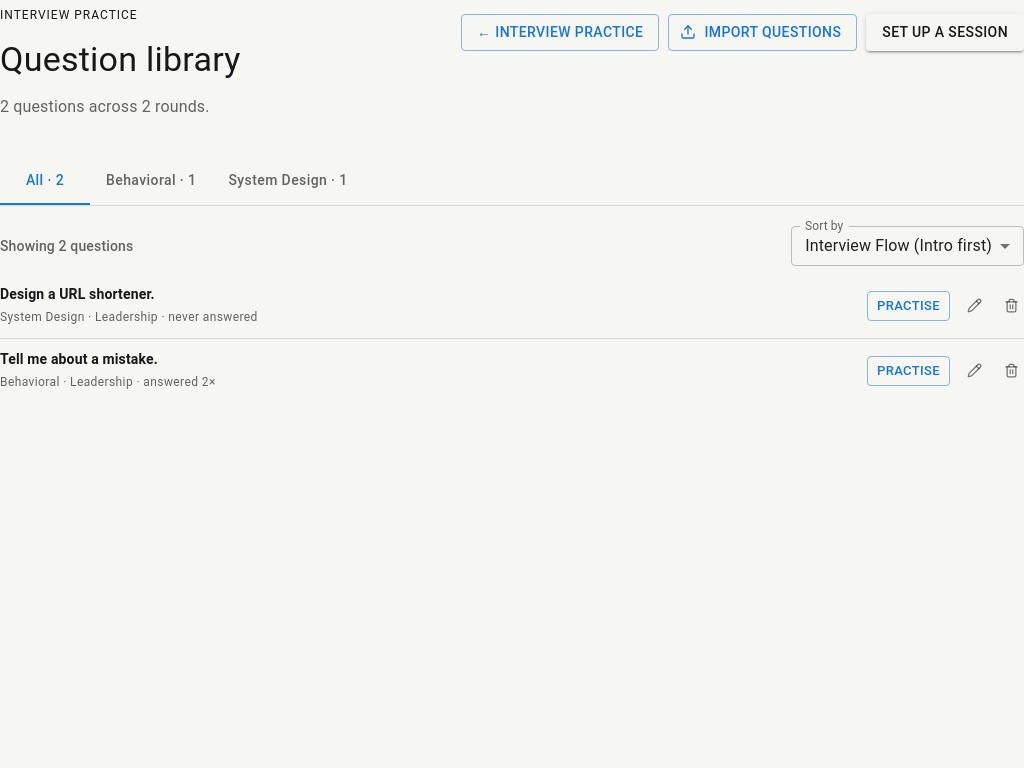
Test: InterviewLibraryPage › deletes only after asking, and says the recordings are kept
Click the button named "Delete Tell me about a mistake.": {"x": 1012, "y": 371} [999,358,1023,383]
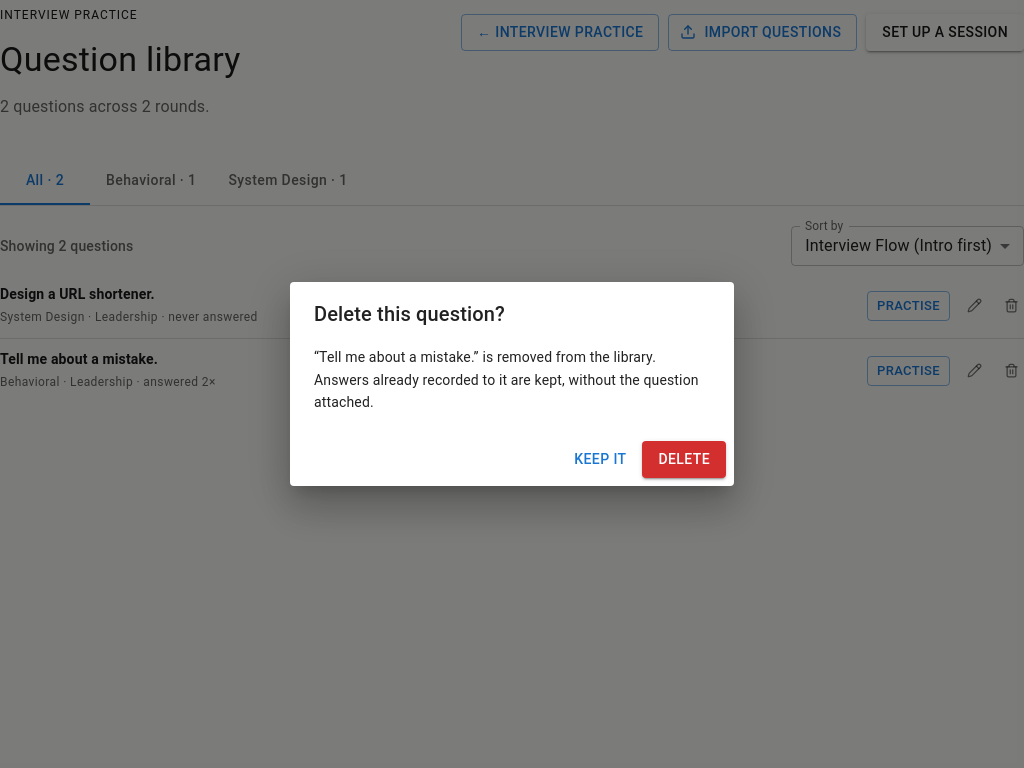
Click the button "Delete": {"x": 684, "y": 460} [642,441,726,478]
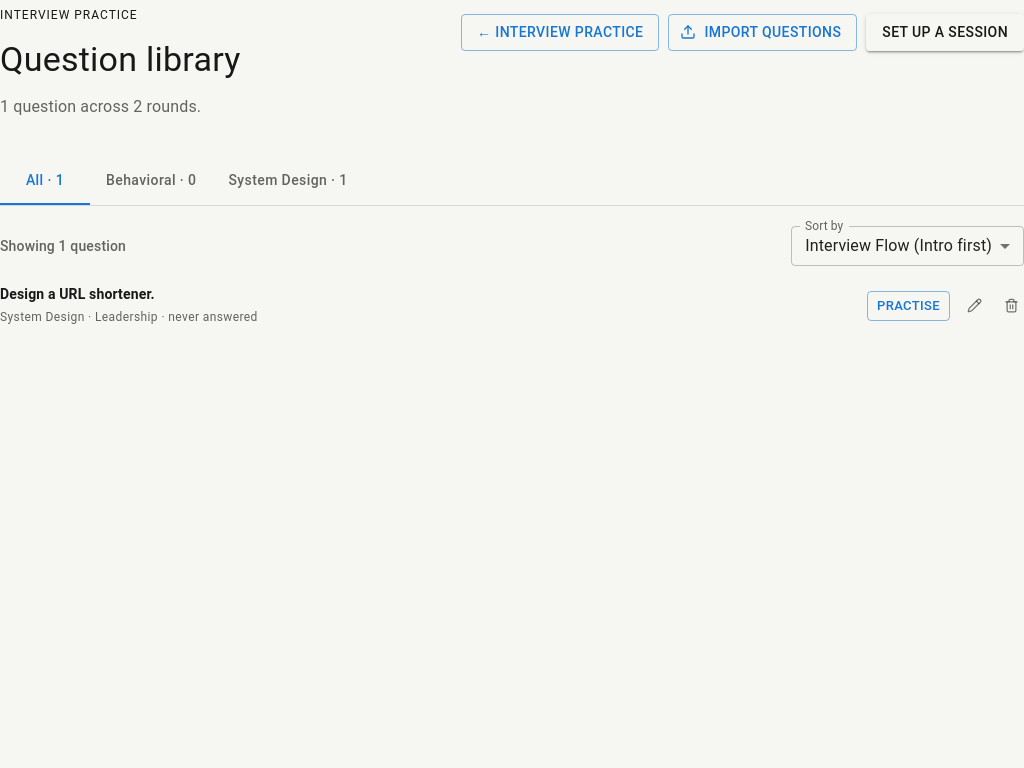
Now the text "Tell me about a mistake." is gone
